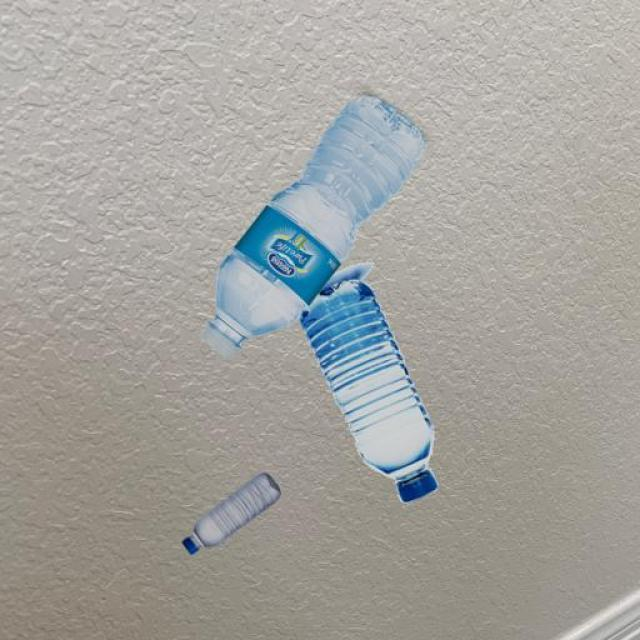bottle: (200, 92, 440, 504), (297, 266, 438, 504), (180, 470, 281, 555)
